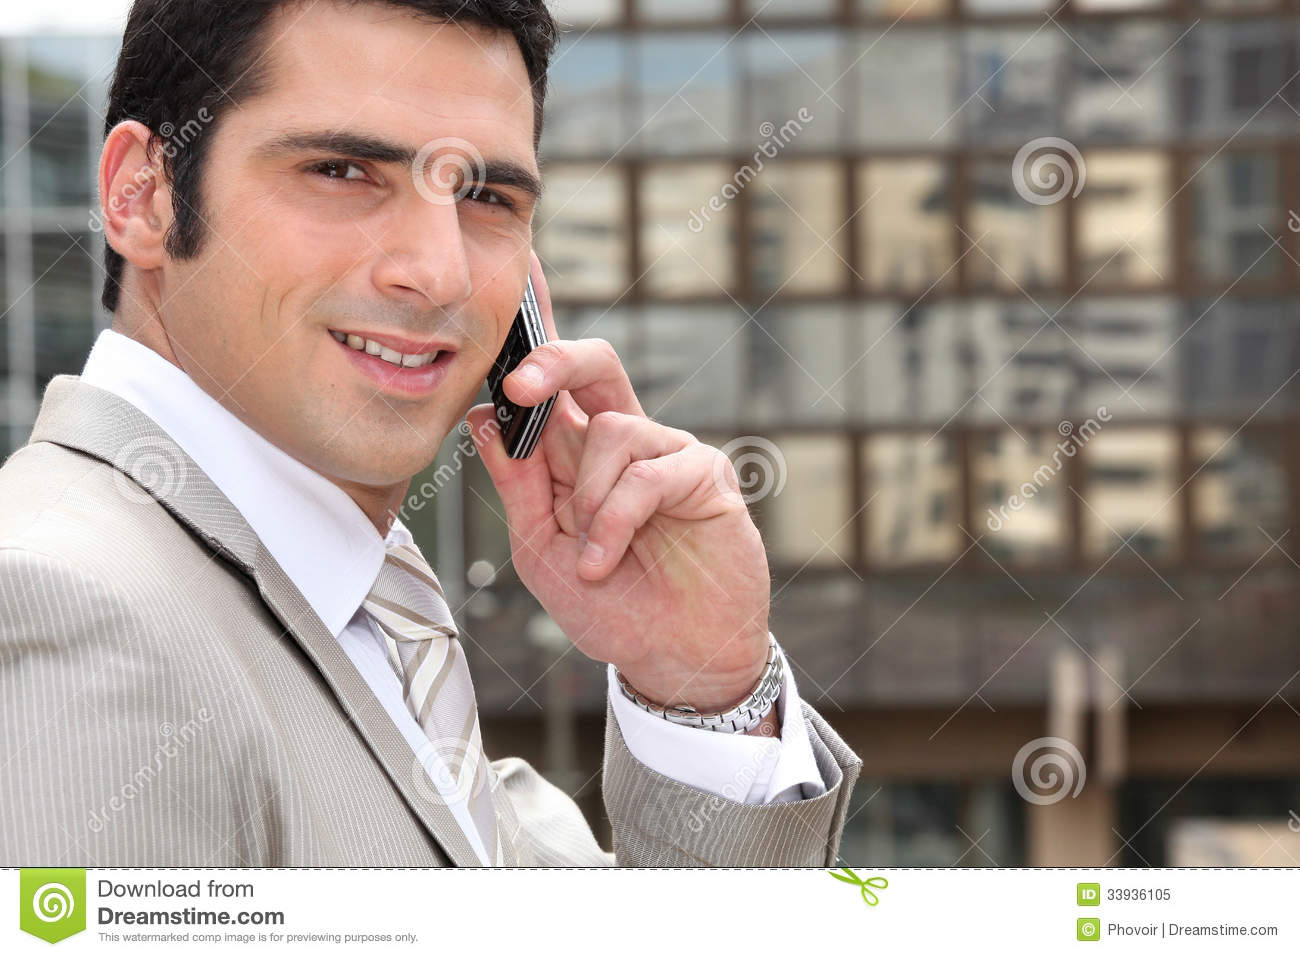phone: (475, 271, 568, 462)
talk: (248, 105, 767, 699)
